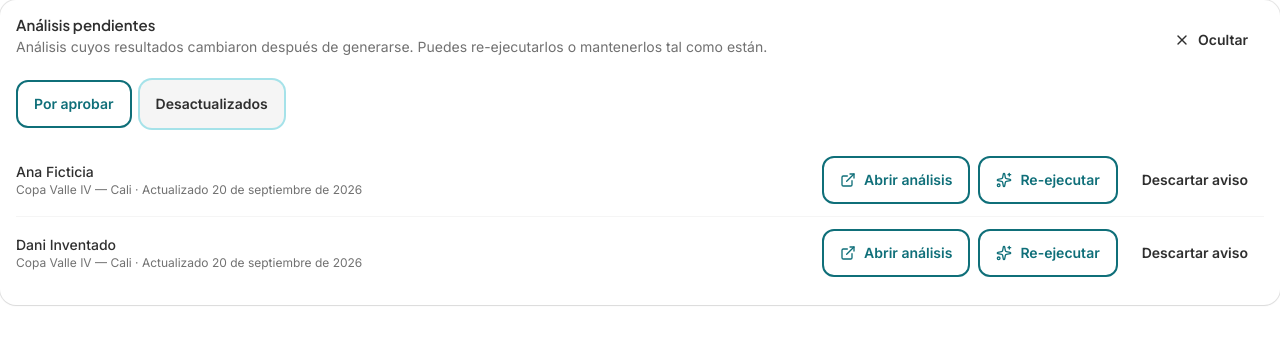
Scenario: PendingAnalysesPanel — re-ejecutar › si el run termina en fallo, el estado optimista se reemplaza por el error
Click the button with aria-label "Re-ejecutar el análisis de Ana Ficticia": {"x": 1048, "y": 180} left=978, top=156, right=1118, bottom=204
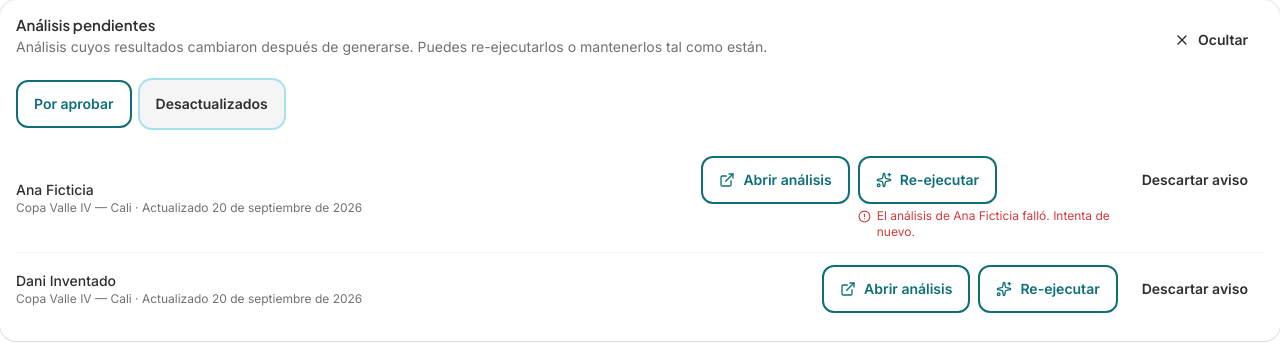
Expected: the message with test id "pending-rerun-error-144" shows "falló", left=877, top=208, right=1110, bottom=239
